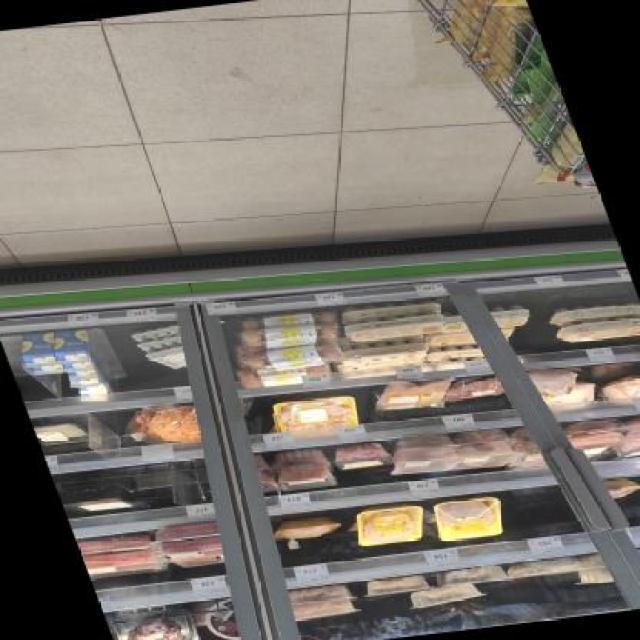Egg: (424, 494, 516, 546), (346, 501, 438, 553), (264, 390, 367, 436), (117, 402, 208, 450), (104, 604, 211, 640), (342, 310, 449, 343), (369, 376, 458, 415), (548, 313, 640, 347), (265, 511, 349, 547), (384, 445, 468, 481), (150, 533, 234, 569), (82, 545, 164, 581), (59, 484, 143, 518), (337, 338, 431, 368), (402, 579, 486, 612), (451, 439, 525, 473), (326, 440, 400, 474), (269, 460, 343, 494), (558, 427, 632, 461), (31, 412, 95, 450), (356, 571, 433, 601), (437, 562, 514, 592), (289, 596, 366, 626), (283, 580, 360, 610), (507, 554, 583, 582), (16, 331, 62, 369), (529, 367, 583, 399), (49, 329, 95, 366), (610, 425, 639, 461)
